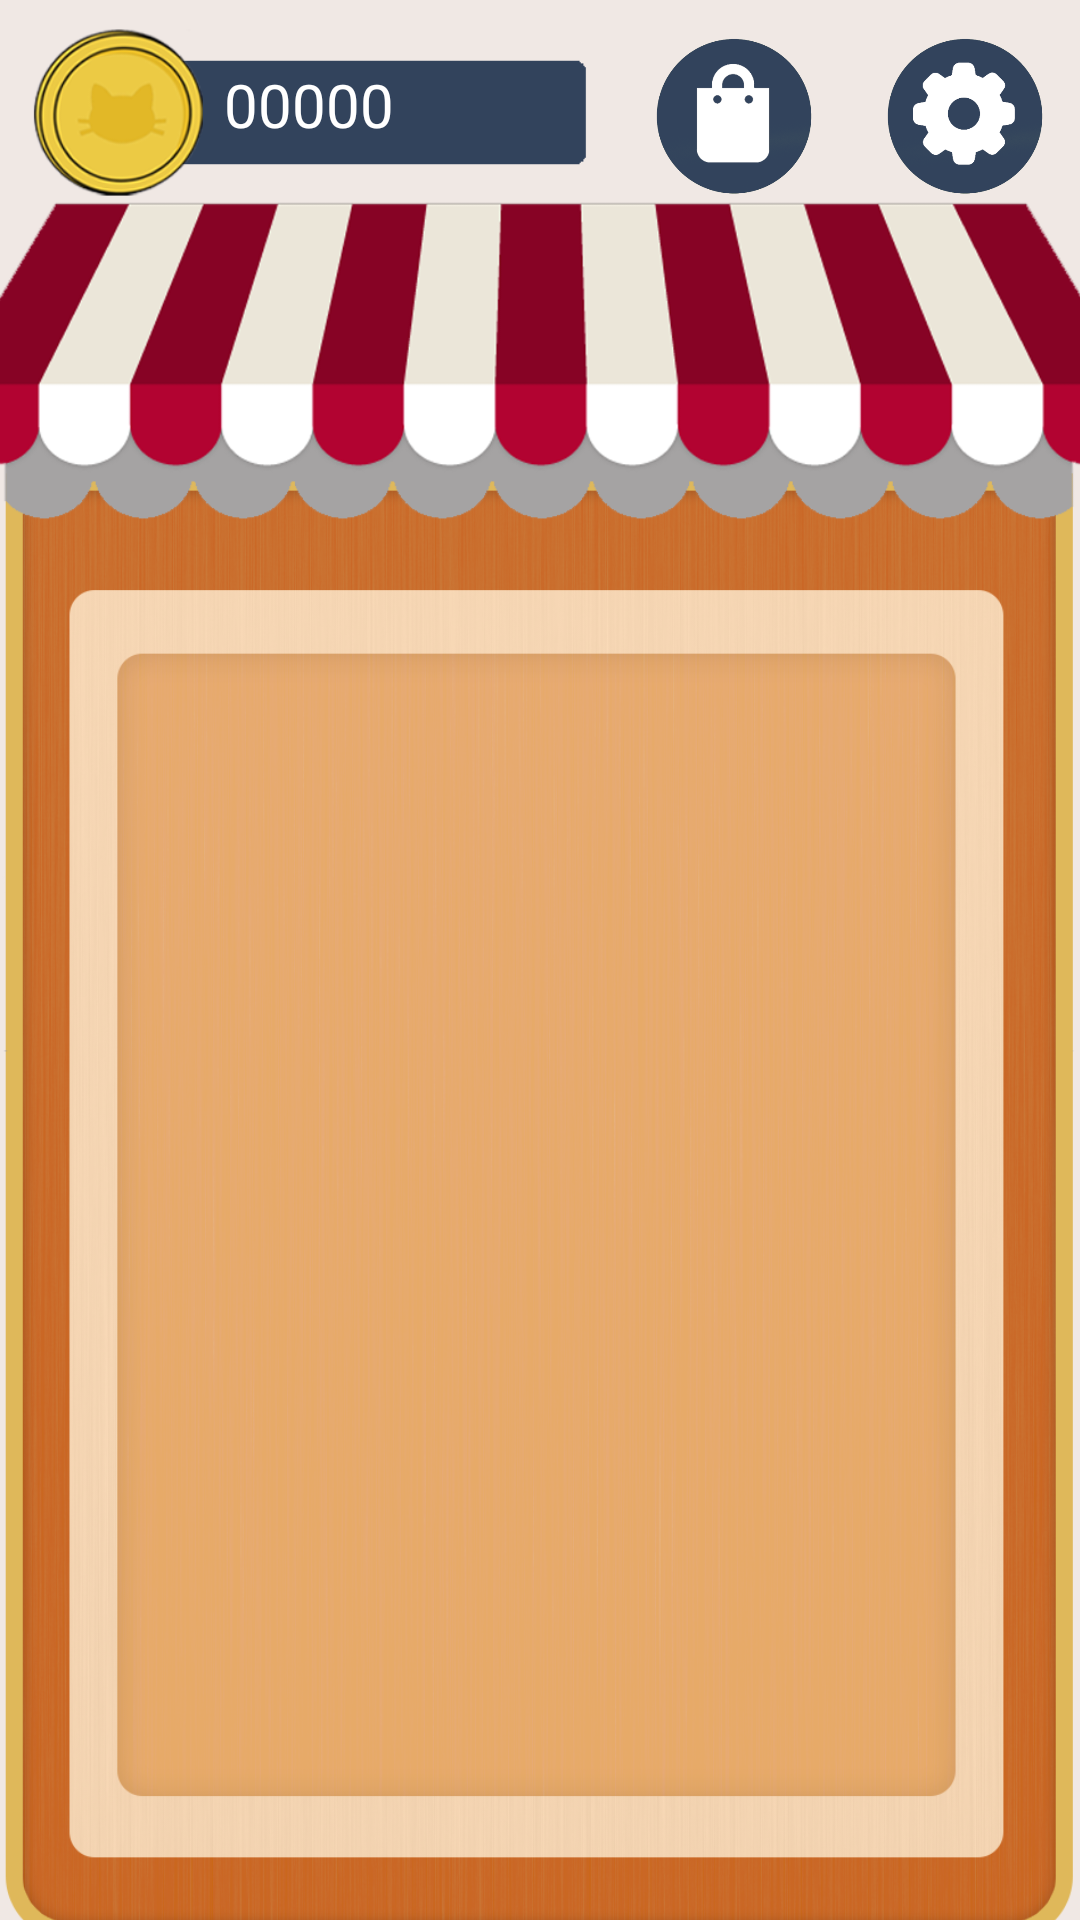

Where icons sit on this 1080*1920 app screen, as bbox=(x1, y1, x2, y2):
cart: bbox=(657, 39, 812, 194)
settingsbutton: bbox=(888, 39, 1043, 194)
